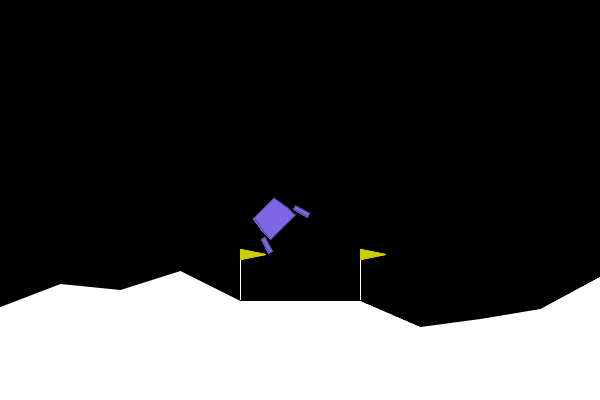lander: (241, 186, 312, 256)
